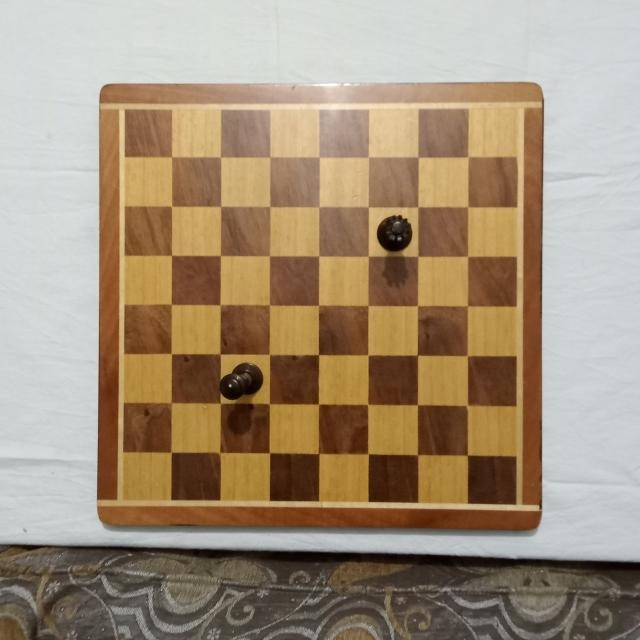black-king: (219, 360, 265, 400)
black-queen: (377, 213, 414, 252)
